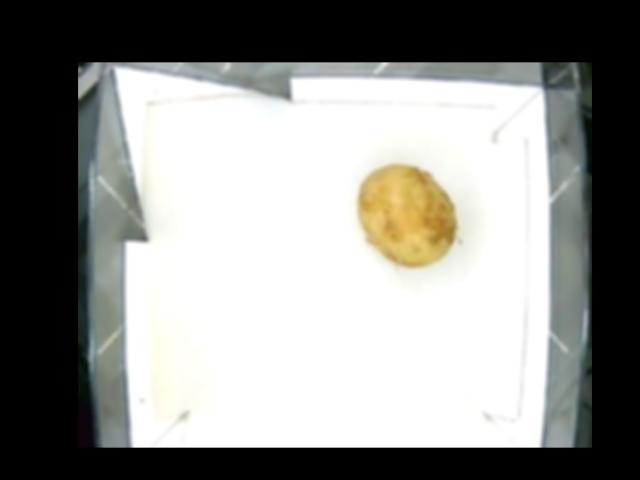Potato: (358, 165, 456, 267)
